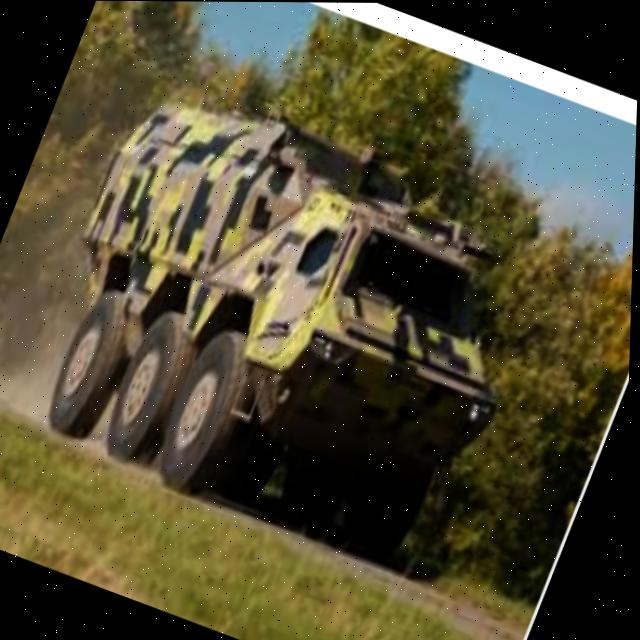MIL_APC: (0, 63, 605, 615)
